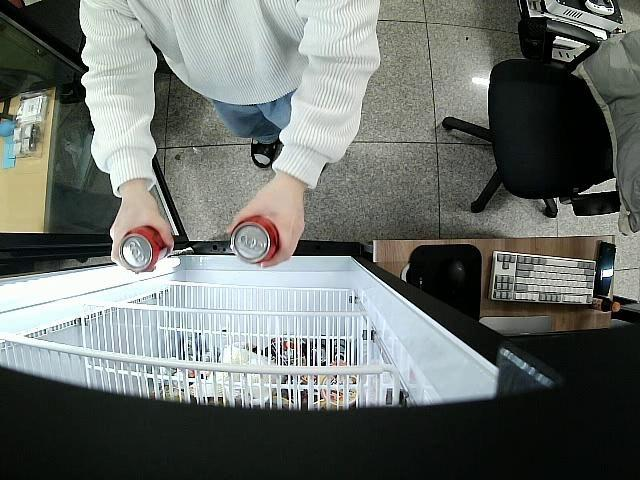11_cocaColaZero: (232, 216, 280, 266), (118, 225, 169, 272)
